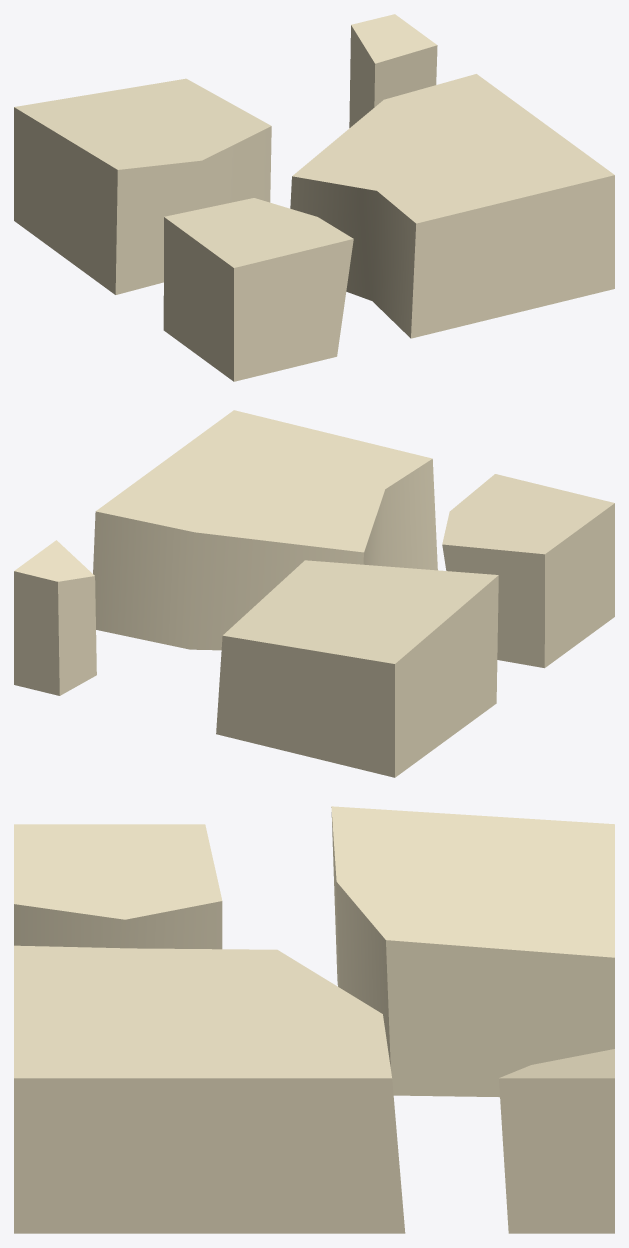
The model's file is Destroy_Plate_3.fbx.
The picture shows the model from 3 angles, top to bottom: view 1: azimuth 30°, elevation 25°; view 2: azimuth 150°, elevation 25°; view 3: azimuth 270°, elevation 25°; orthographic projection. The views are drawn at different scales.
Visible parts, largest first — view 1: Destroy_Plate_3; view 2: Destroy_Plate_3; view 3: Destroy_Plate_3.
Part boxes in pixels (box(x1,y1,x2,y2)): Destroy_Plate_3: box(14, 14, 614, 381); Destroy_Plate_3: box(14, 410, 614, 777); Destroy_Plate_3: box(14, 806, 614, 1233).
Bounding box in the file's own units: 300 × 95.44 × 300.
